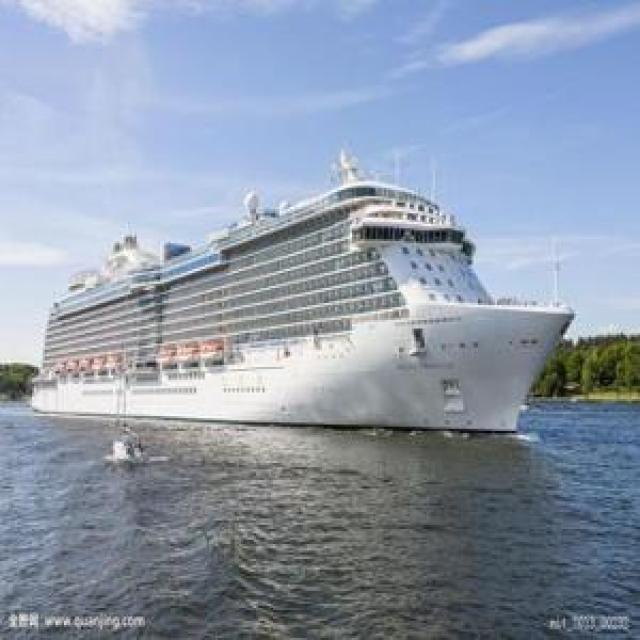passenger ship: (28, 175, 566, 430)
